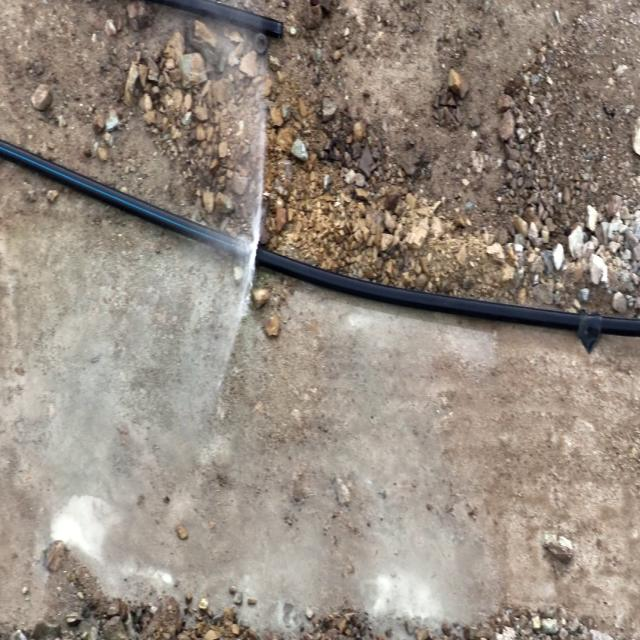leak: (213, 52, 269, 402)
